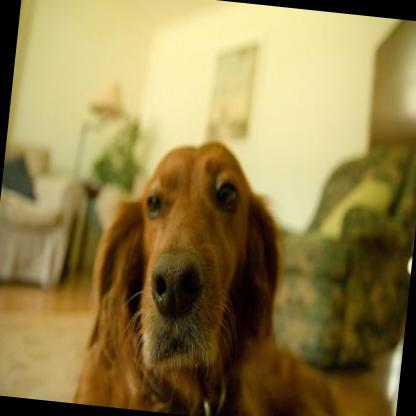Irish_setter: (70, 124, 386, 416)
